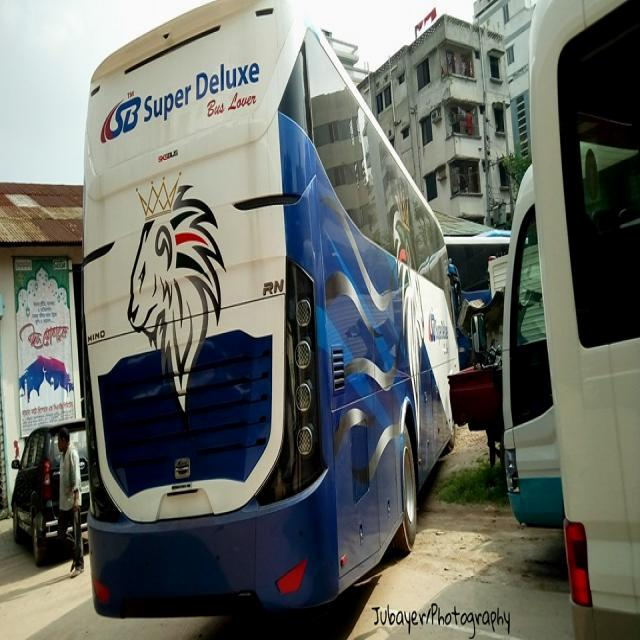bus: (82, 1, 463, 619)
